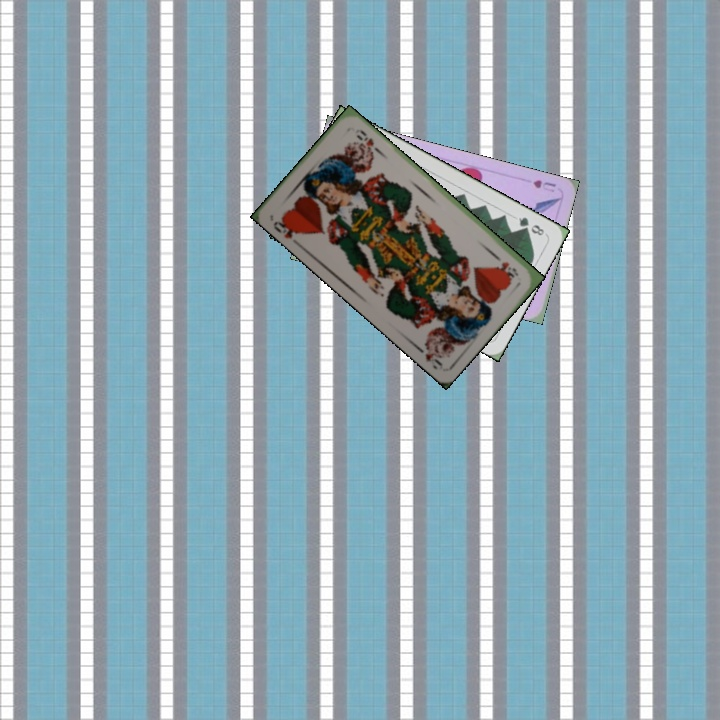G8: (515, 213, 549, 239)
HO: (269, 213, 306, 241), (489, 250, 521, 280)
HU: (529, 176, 558, 195)
